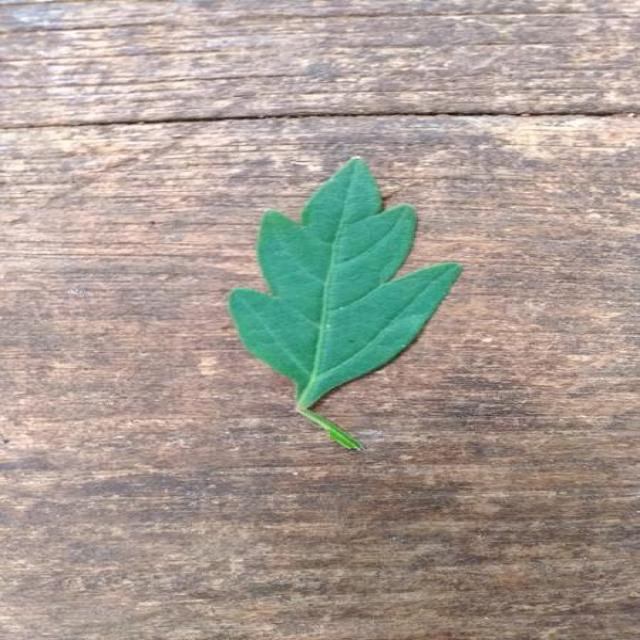balloon_Vine: (228, 158, 462, 449)
